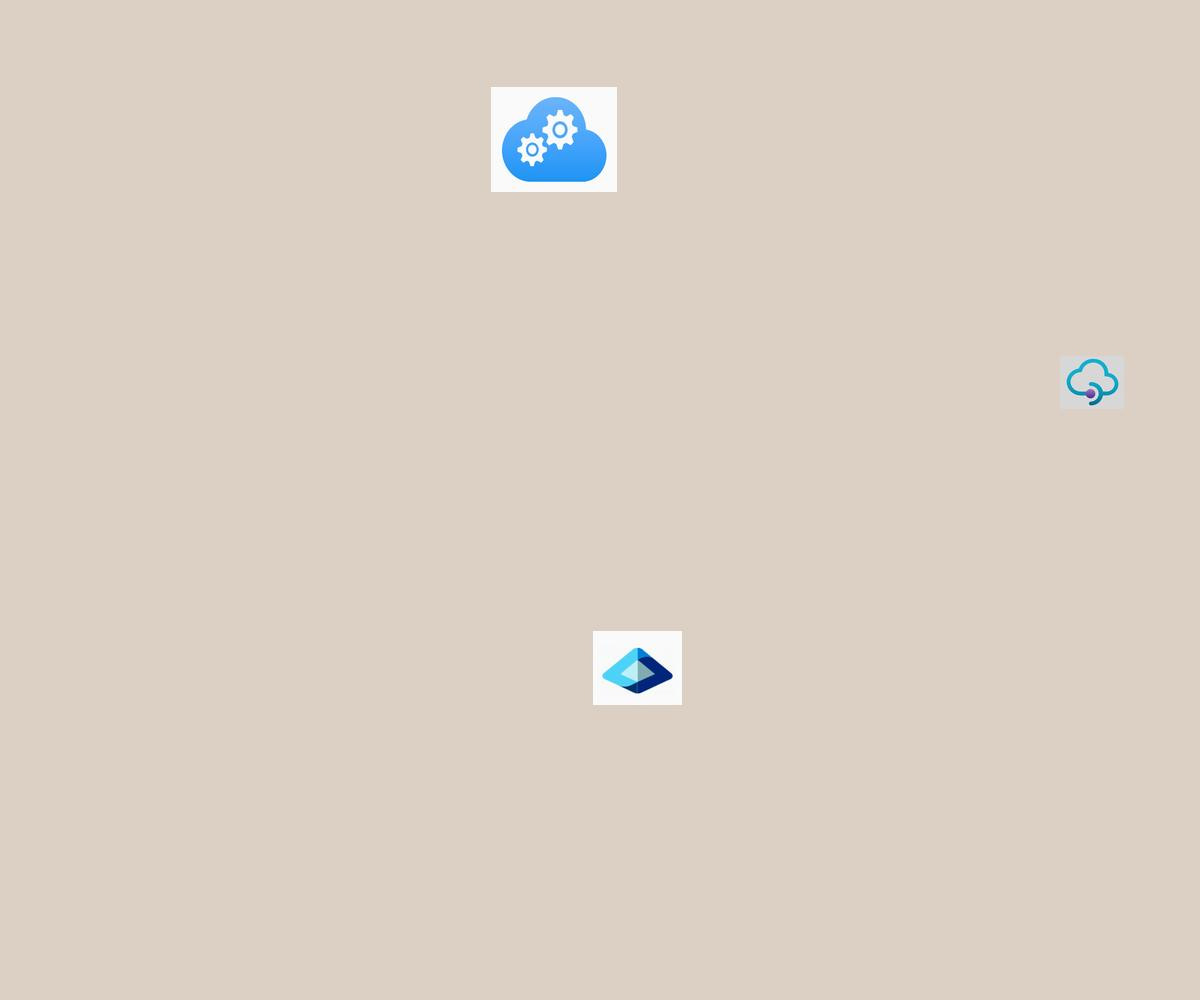Azure_api_gateway: (1060, 356, 1124, 409)
Azure_cloud_services: (491, 87, 617, 192)
Azure_microsoft_entra: (593, 631, 682, 705)
